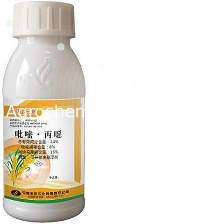insecticide: (0, 0, 86, 223)
